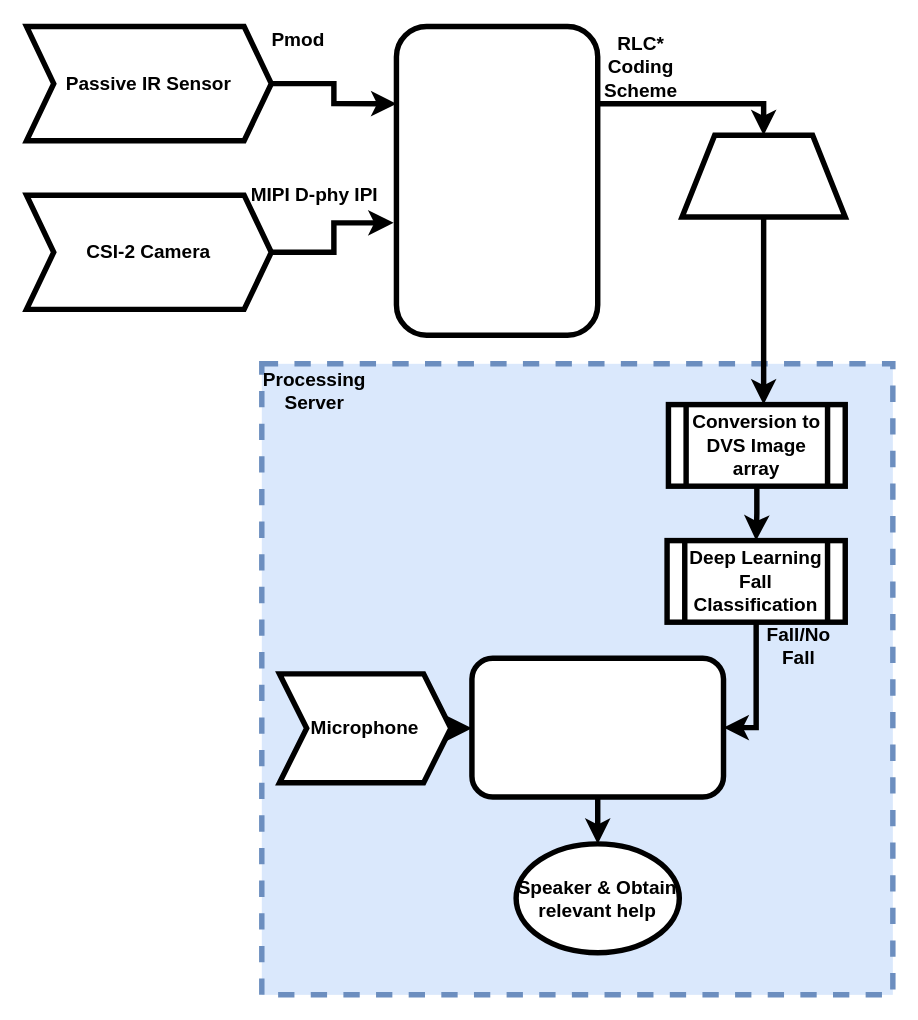
Some shapes in this 918 by 1020 pixel diagram are drawn without their labels. Each missing label, with the box of its shape:
PYNQ-Z2 FPGA: (393, 23, 600, 337)
Voice recognition Assistance System: (469, 655, 726, 799)
WiFi Interface: (679, 132, 847, 219)
